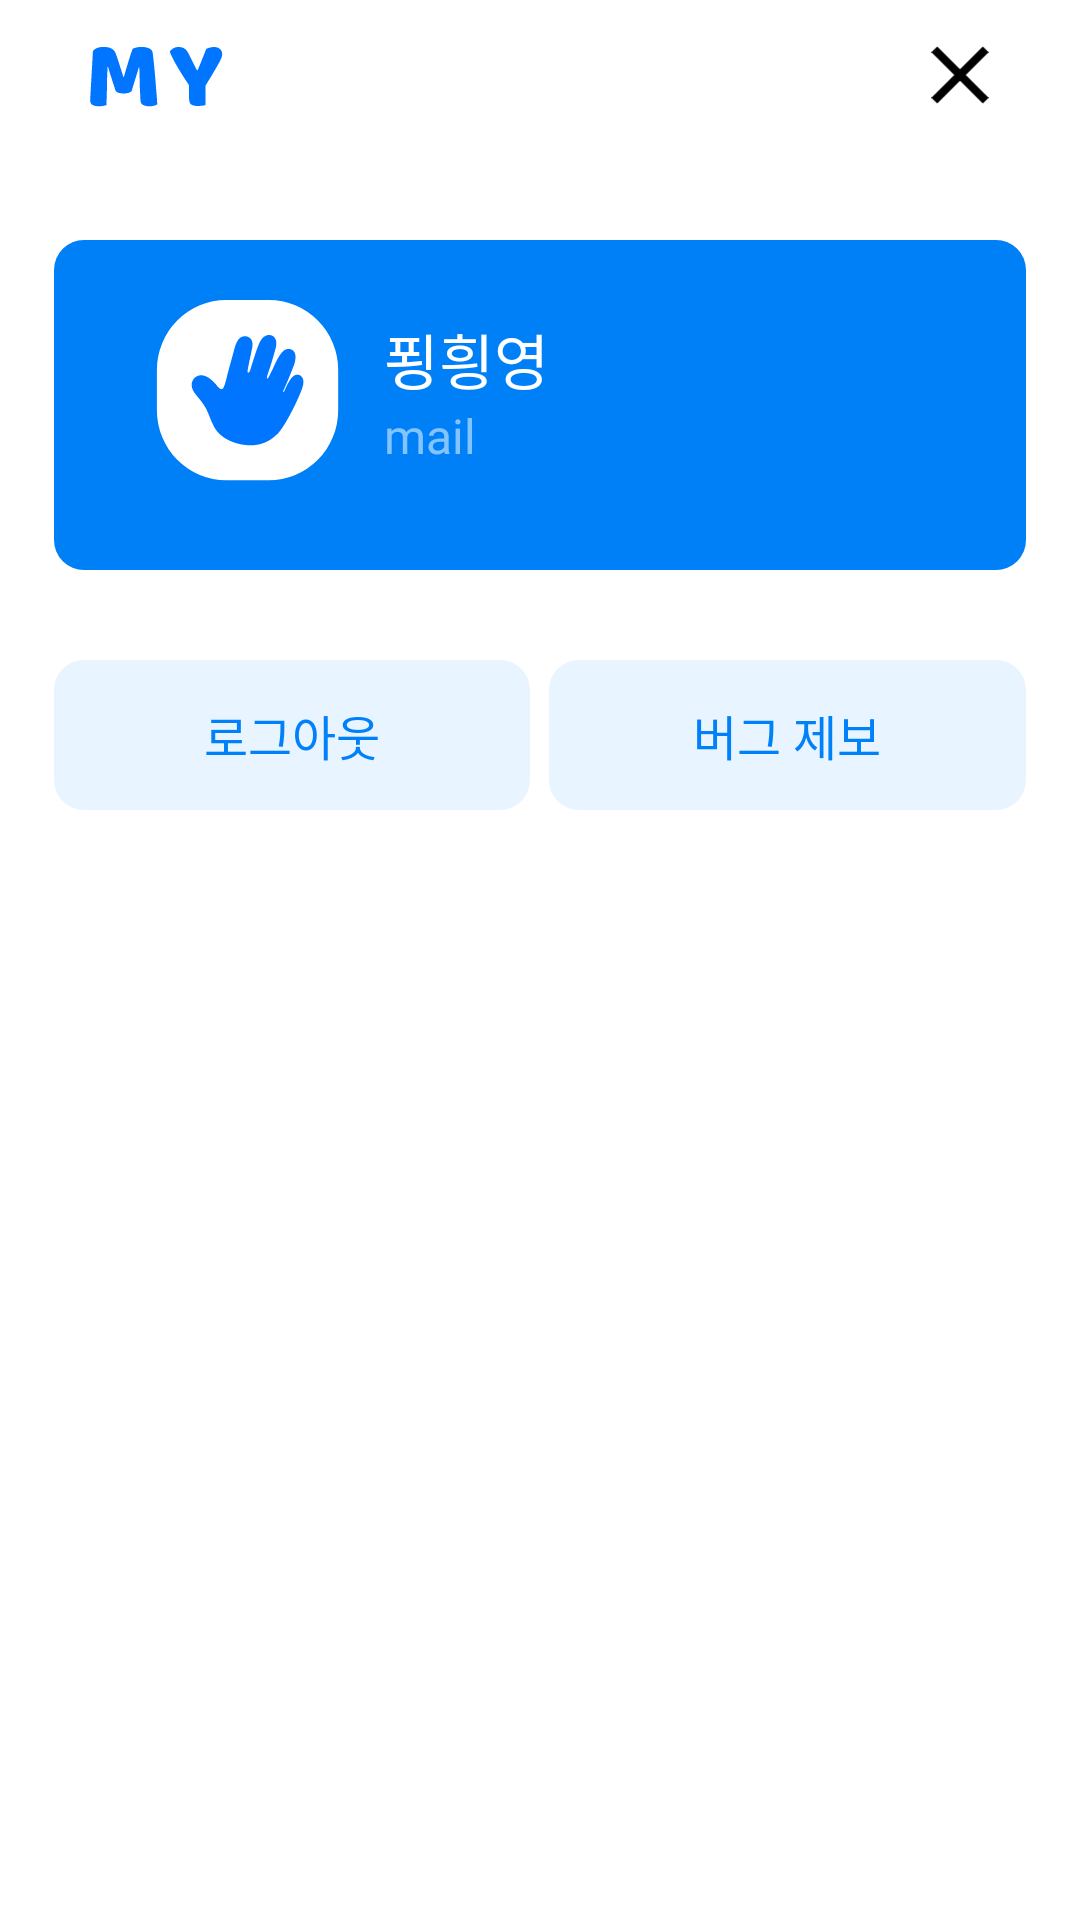

Named icons in this screenshot (1080px×1920px) and their bounding boxes, (x1, y1, x2, y2):
cancel: (931, 46, 989, 104)
